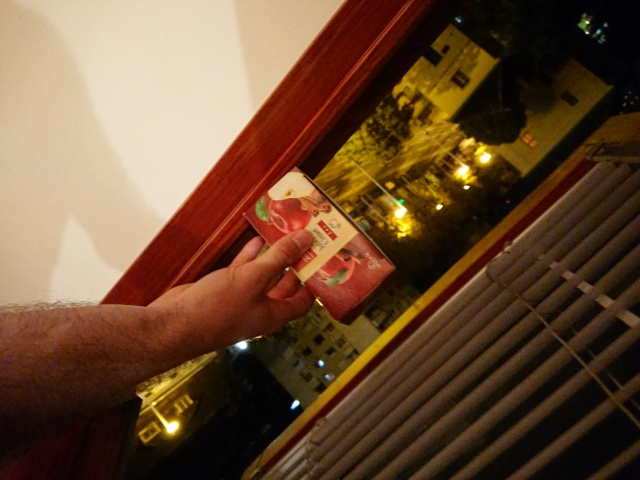Franck Apple Cinnamon Tea 60g: (238, 161, 404, 328)
